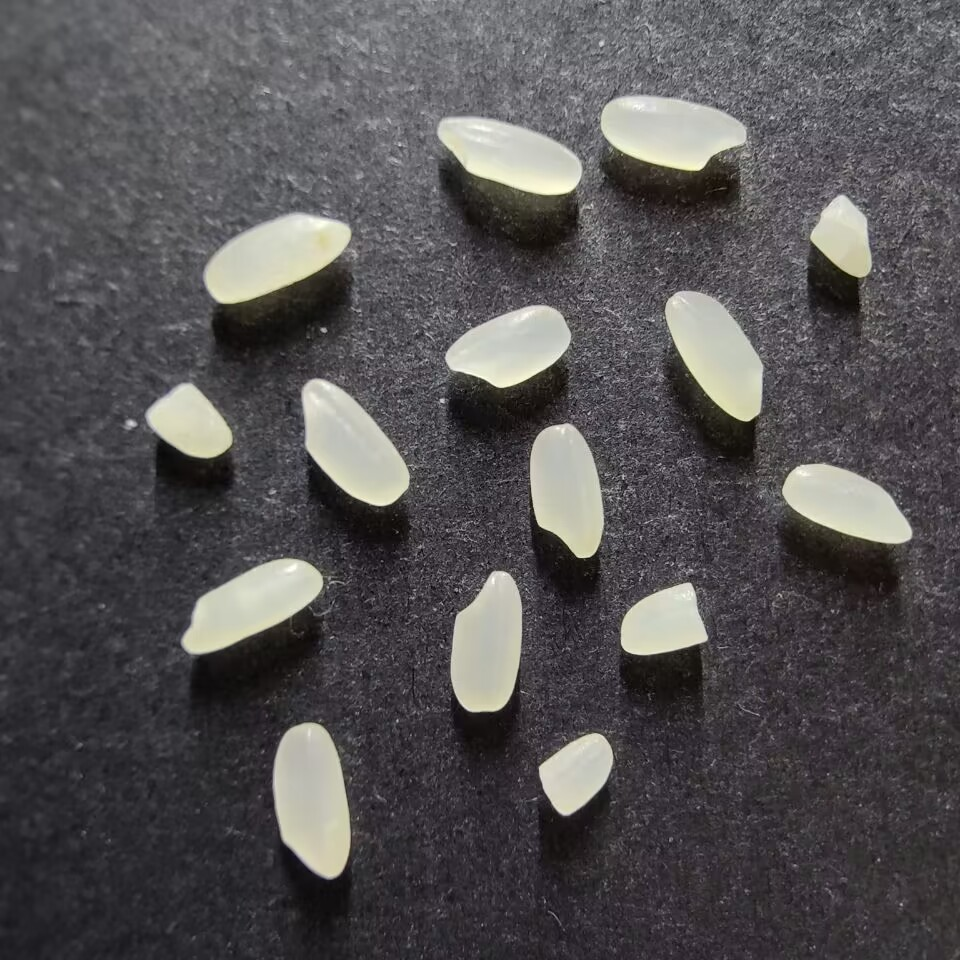broken: (145, 382, 233, 458), (620, 582, 708, 655), (537, 733, 613, 816), (808, 193, 872, 278)
rice: (180, 557, 323, 655), (301, 378, 410, 506), (203, 212, 351, 305), (664, 290, 764, 422), (272, 722, 351, 879), (437, 116, 582, 195), (600, 95, 747, 170), (781, 462, 913, 544), (444, 304, 571, 388), (449, 570, 523, 713), (528, 422, 603, 558)
